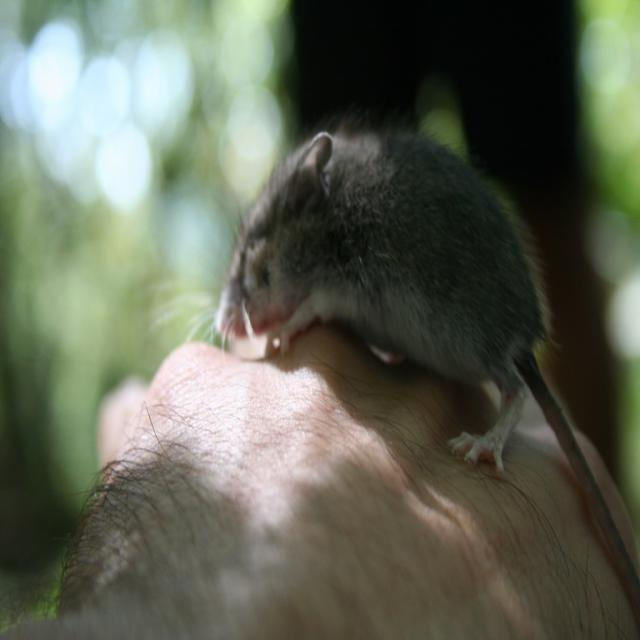rat: (211, 125, 640, 622)
